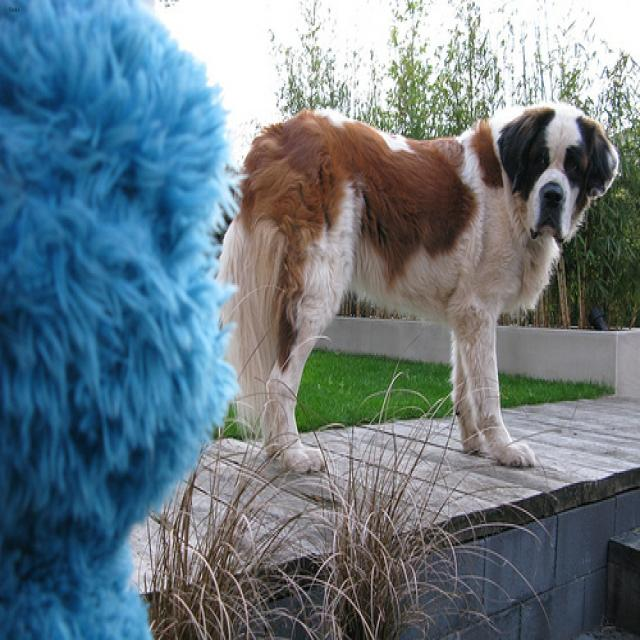dog-saint_bernard: (210, 90, 625, 485)
